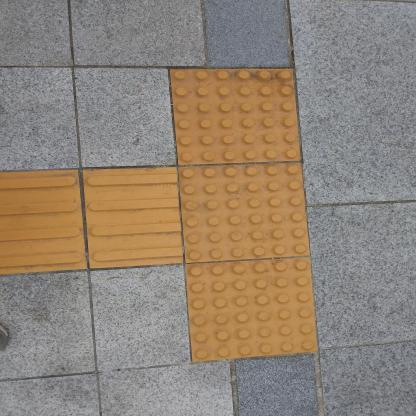podotacti: (0, 57, 324, 366)
